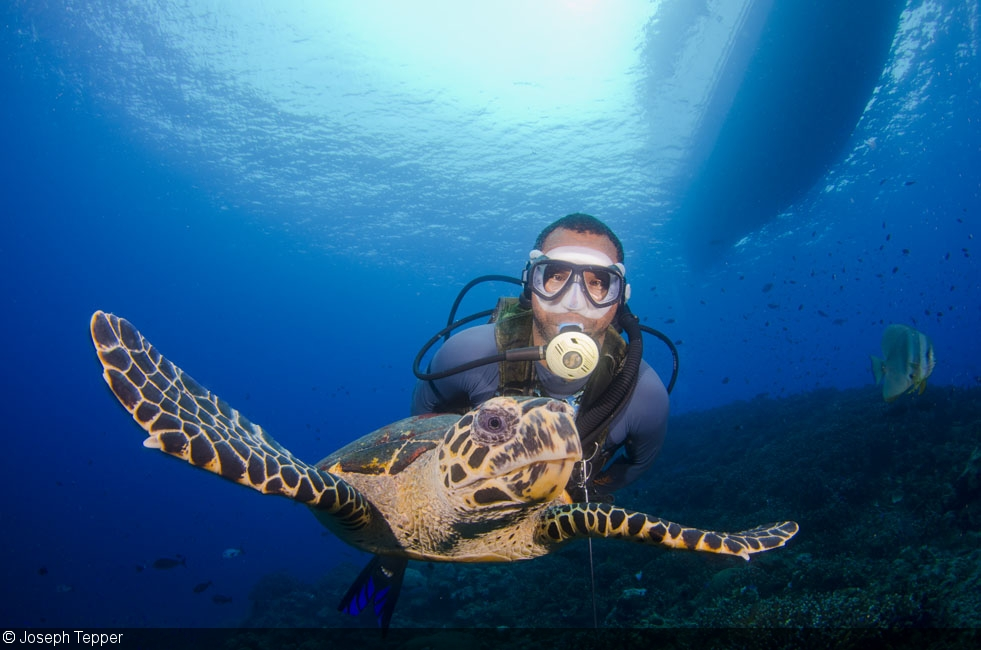fish: (862, 313, 944, 410)
trutle: (79, 318, 808, 617)
